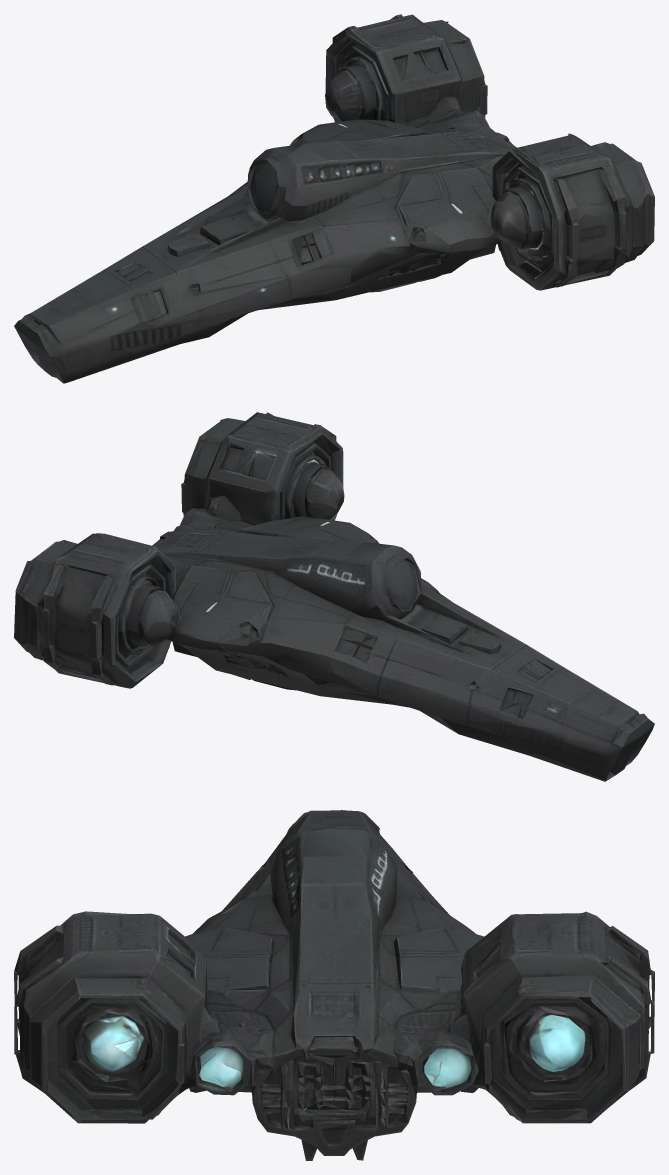
File: enemy-auris-fighter.glb
3 views of the same model, one above another, from view 1: azimuth 30°, elevation 25°; view 2: azimuth 150°, elevation 25°; view 3: azimuth 270°, elevation 25° (orthographic). The views are drawn at different scales.
Bounding box in the file's own units: 1.9 × 0.6392 × 1.53.
1 material, 1 textured.
